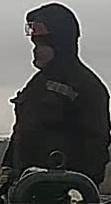helmet: (23, 13, 53, 37)
vest: (8, 67, 110, 187)
